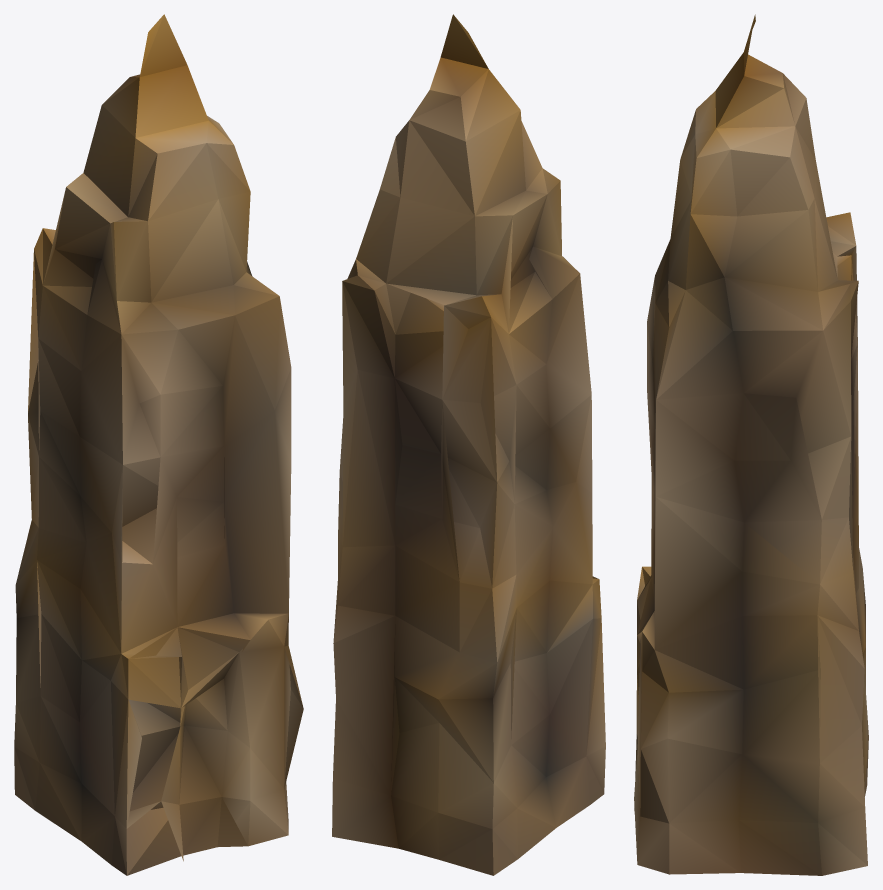
The model's file is city-deco-tower.glb.
3 renders of one model, left to right at view 1: azimuth 30°, elevation 25°; view 2: azimuth 150°, elevation 25°; view 3: azimuth 270°, elevation 25°, orthographic. The views are drawn at different scales.
Parts seen in each view (by area): view 1: city-deco-tower-far; view 2: city-deco-tower-far; view 3: city-deco-tower-far.
Boxes of the visible parts, x1=… form: city-deco-tower-far: x1=14, y1=14, x2=303, y2=875; city-deco-tower-far: x1=332, y1=14, x2=605, y2=875; city-deco-tower-far: x1=634, y1=14, x2=868, y2=875.
Size of the model in its own units: 8.82 by 36.75 by 9.55.
